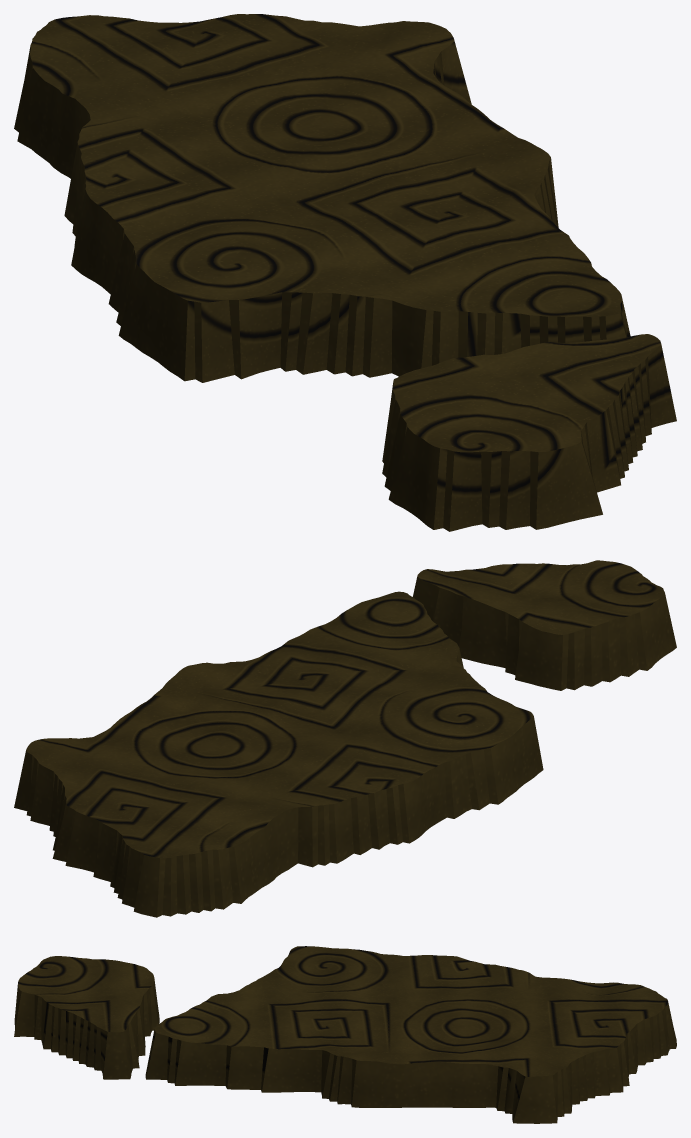
Rendered from CREHenge22.glb.
3 renders of one model, top to bottom at view 1: azimuth 30°, elevation 25°; view 2: azimuth 150°, elevation 25°; view 3: azimuth 270°, elevation 25°, orthographic. The views are drawn at different scales.
Parts seen in each view (by area): view 1: CREHenge22_tops; view 2: CREHenge22_tops; view 3: CREHenge22_tops.
Boxes of the visible parts, <box> form: CREHenge22_tops: <box>14,14,676,531</box>; CREHenge22_tops: <box>14,560,676,917</box>; CREHenge22_tops: <box>14,946,676,1123</box>.
Bounding box in the file's own units: 2.77 × 0.4297 × 5.64.
2 materials, 2 textured.
